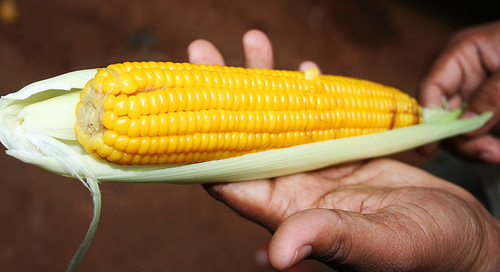corn: (71, 59, 427, 170)
